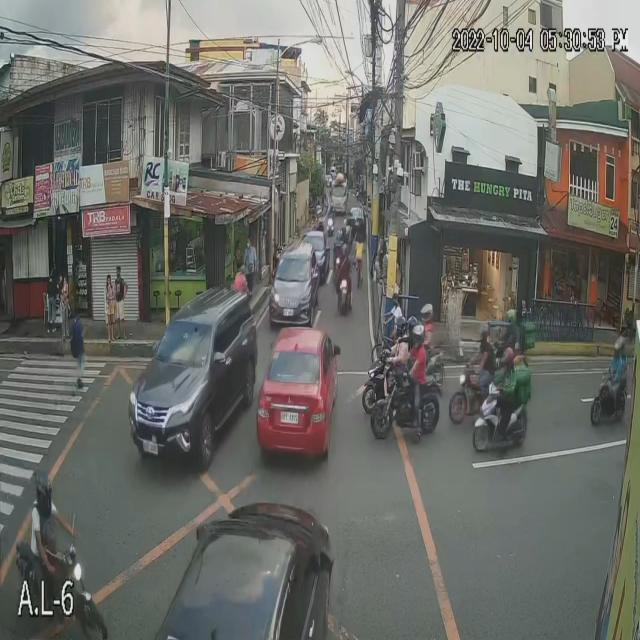full: (34, 472, 53, 518), (411, 321, 427, 348), (500, 346, 515, 372), (420, 304, 435, 327), (395, 314, 407, 338), (478, 324, 490, 345)
